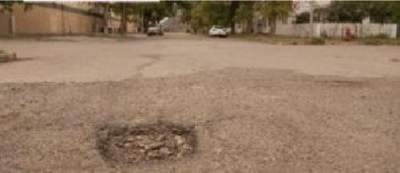pothole: (95, 121, 199, 167)
